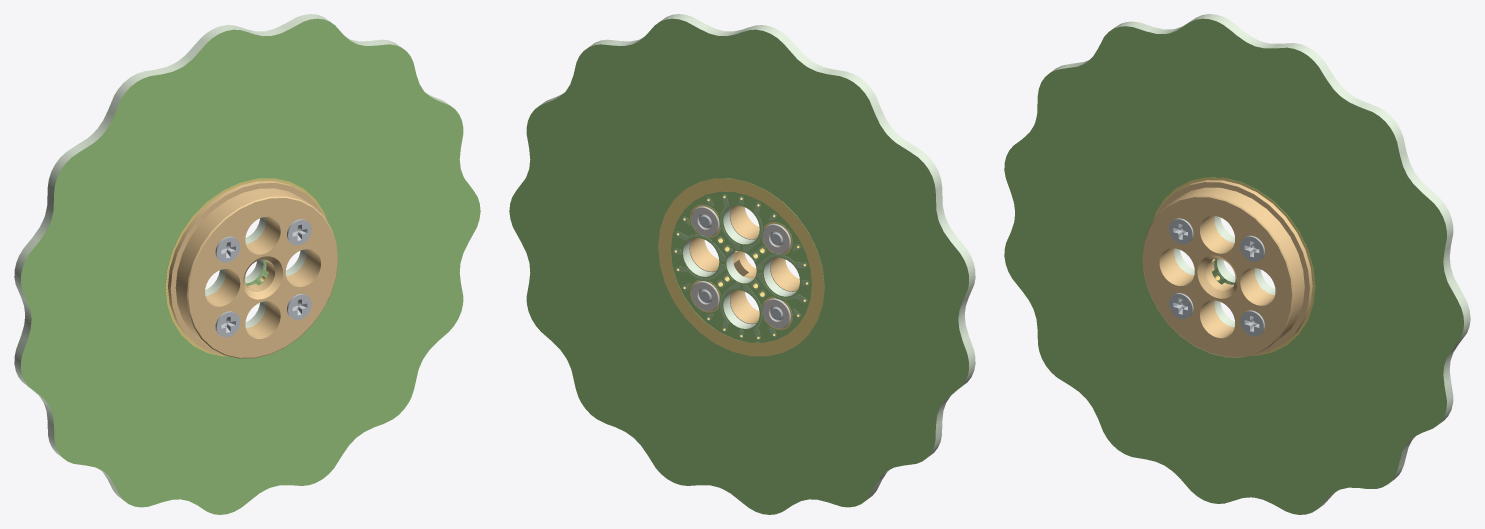
Rendered from cycloidalDisc.gltf.
The picture shows the model from 3 angles, left to right: view 1: azimuth 30°, elevation 25°; view 2: azimuth 150°, elevation 25°; view 3: azimuth 330°, elevation 25°; orthographic projection.
Parts seen in each view (by area): view 1: cycloidalDisc, discHub, PH Countersunk flat head screw M2.5x0.45 x 8 (×2); view 2: cycloidalDisc, discHub, occurrence of 24929 (×4); view 3: cycloidalDisc, discHub.
Part boxes in pixels (bbox=[...]): cycloidalDisc: bbox=[14, 14, 480, 514]; discHub: bbox=[168, 181, 337, 358]; PH Countersunk flat head screw M2.5x0.45 x 8 (×2): bbox=[215, 236, 240, 337]; cycloidalDisc: bbox=[509, 14, 975, 514]; discHub: bbox=[690, 205, 799, 323]; occurrence of 24929 (×4): bbox=[691, 206, 790, 328]; cycloidalDisc: bbox=[1004, 14, 1470, 514]; discHub: bbox=[1142, 180, 1312, 357].
Bounding box in the file's own units: 0.0911 × 0.0916 × 0.008.
